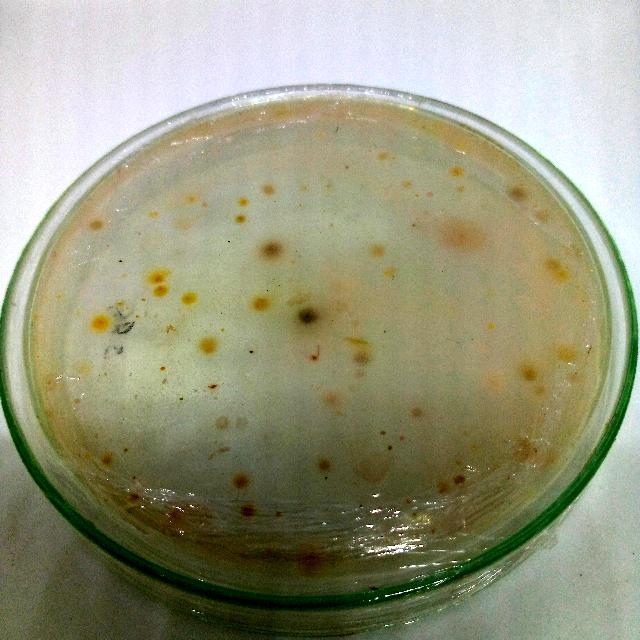colony: (438, 218, 482, 256), (292, 541, 330, 577), (508, 185, 536, 208), (516, 435, 540, 459), (320, 387, 346, 409), (295, 306, 323, 326), (88, 313, 110, 335), (261, 240, 285, 260), (198, 334, 220, 354), (352, 346, 372, 368), (555, 341, 575, 361), (366, 242, 388, 260), (530, 205, 552, 222), (250, 294, 268, 314), (232, 470, 250, 490), (382, 262, 402, 280), (86, 216, 104, 234), (521, 365, 539, 383), (530, 380, 548, 398), (150, 283, 170, 299), (213, 412, 229, 432), (148, 270, 166, 286), (240, 500, 256, 518), (314, 457, 332, 473), (408, 404, 426, 420), (543, 256, 561, 272), (436, 480, 454, 496), (552, 265, 570, 281), (449, 473, 466, 489), (447, 162, 463, 178), (198, 198, 216, 212), (260, 182, 276, 196), (180, 292, 196, 306), (306, 350, 322, 364), (126, 490, 142, 504), (236, 195, 250, 209), (178, 220, 194, 232), (322, 180, 338, 192), (233, 214, 247, 226), (206, 378, 218, 392), (271, 508, 285, 520), (100, 454, 114, 466), (456, 183, 470, 195), (340, 162, 354, 174), (176, 392, 188, 404), (165, 323, 177, 335), (148, 208, 160, 220), (184, 193, 196, 205), (400, 178, 412, 190), (424, 187, 436, 199), (376, 150, 388, 162), (120, 445, 132, 455), (245, 348, 257, 358), (384, 443, 394, 453), (114, 300, 126, 308), (377, 428, 387, 437), (158, 362, 166, 373), (138, 295, 148, 303), (133, 312, 143, 320), (223, 236, 233, 244), (118, 257, 124, 265), (398, 435, 404, 443)
